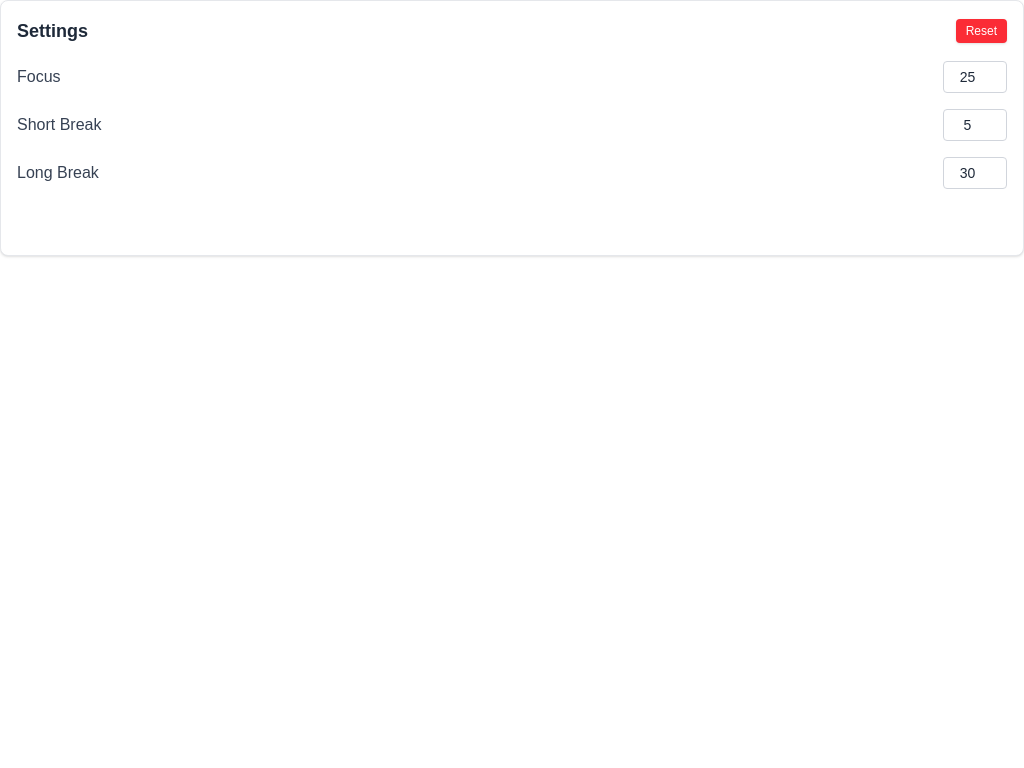
Test: Settings Component › Behavior #14: Reset button in Settings section › should close dialog when cancel button is clicked
The image size is (1024, 768).
Note: Open dialog
Click the button with aria-label "reset settings" at {"x": 981, "y": 31}, box [956,19,1007,43]
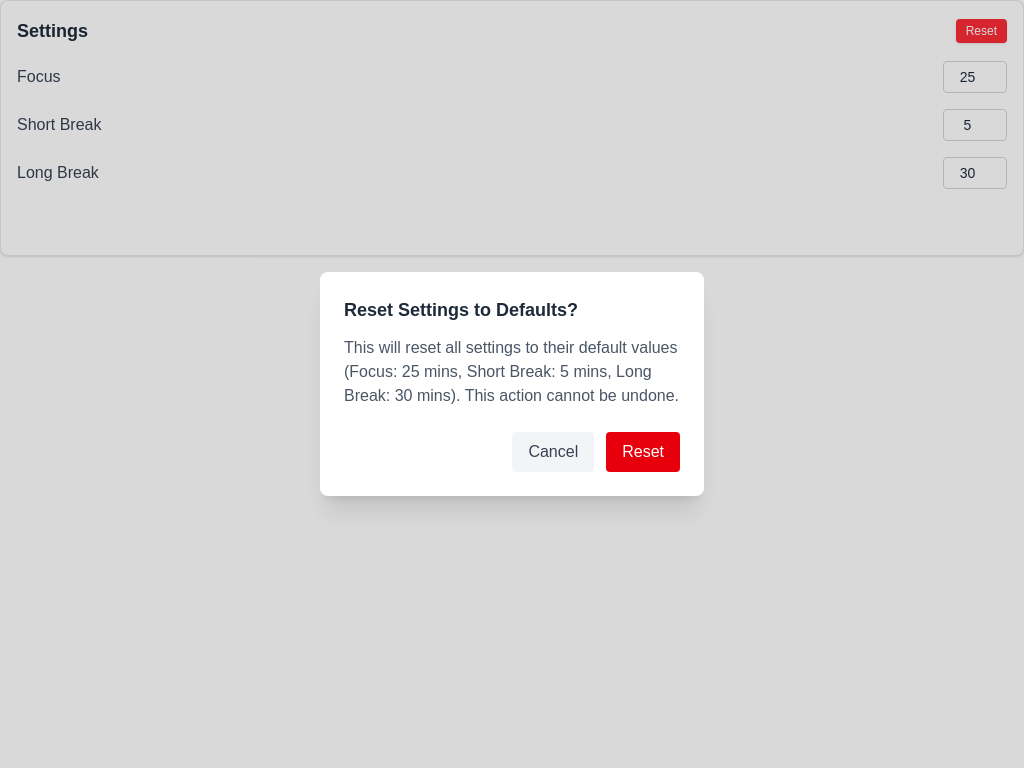
Click the button "Cancel" at {"x": 553, "y": 452}, box [512,432,594,472]
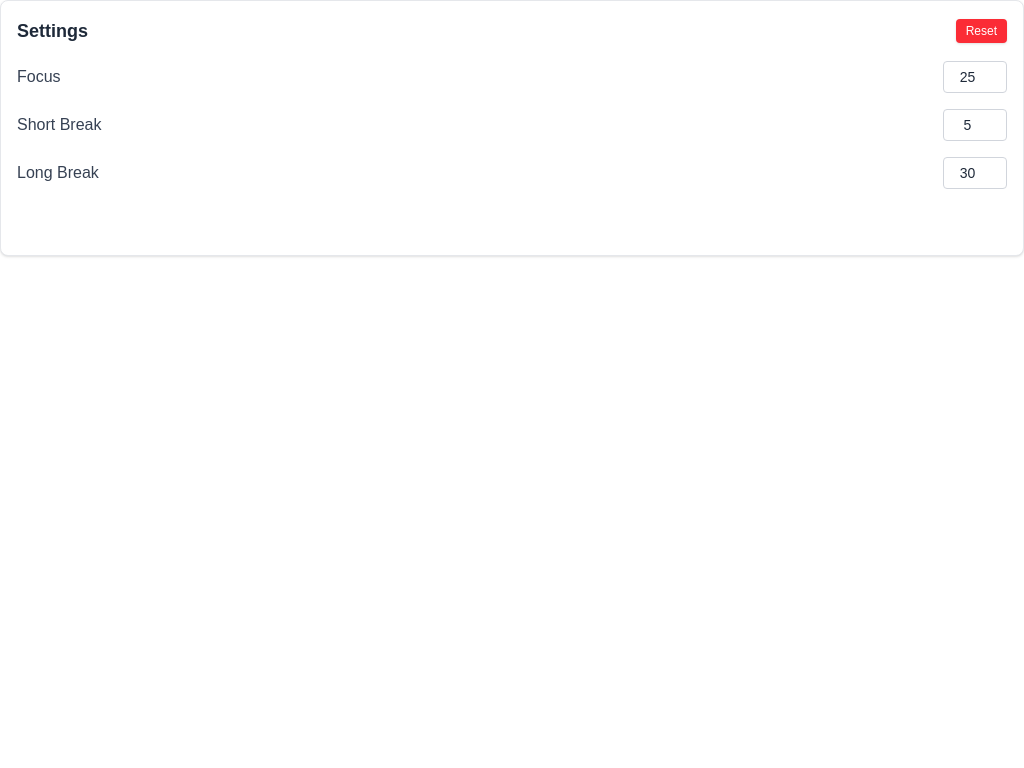
expect the heading "Reset Settings to Defaults" is gone: met
